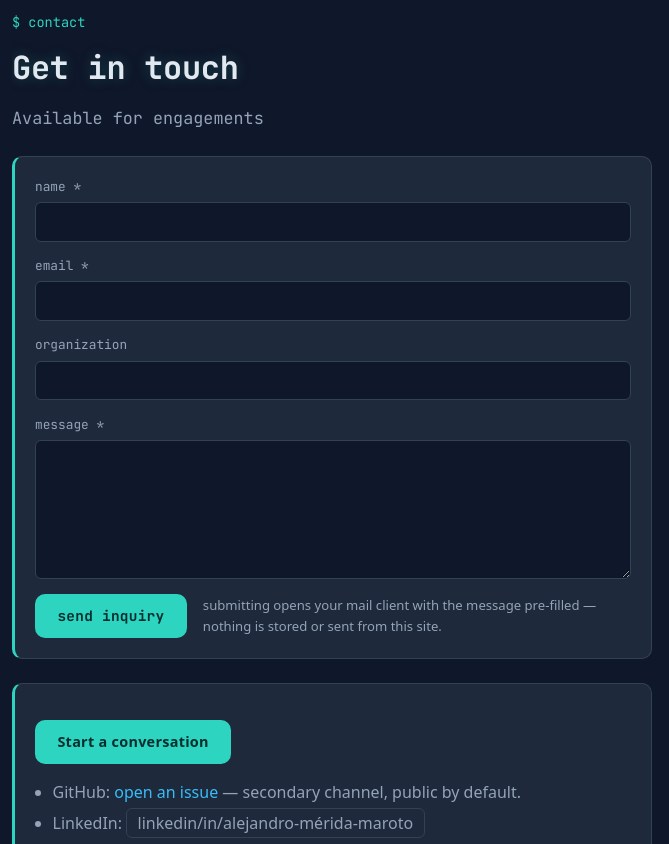
Scenario: Contact inquiry form › rejects an invalid email address and a too-short message
Type "not-an-email" into the field labelled "email *" at point(333, 301), box [35, 281, 631, 321]
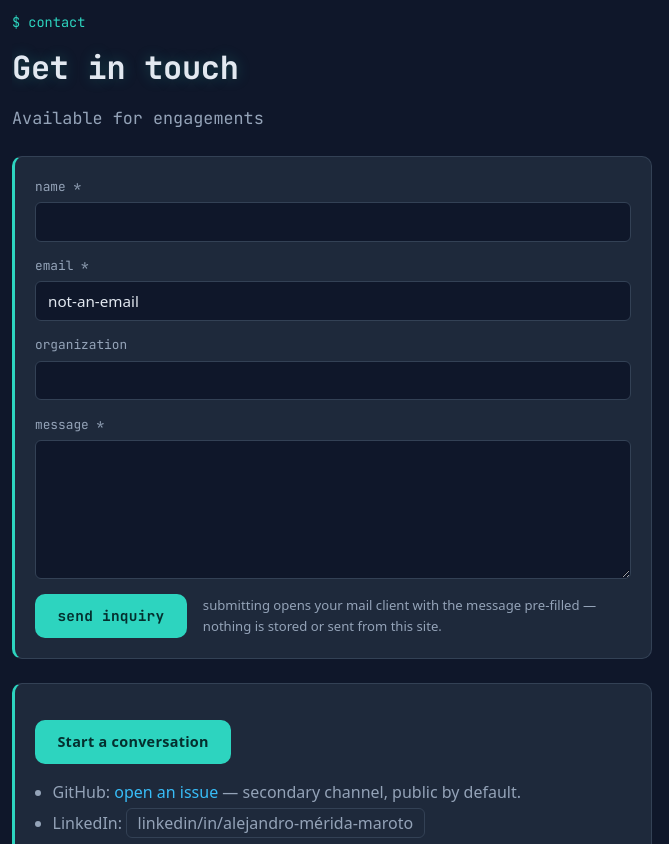
Type "too short" into the text box labelled "message *" at point(333, 510), box [35, 440, 631, 579]
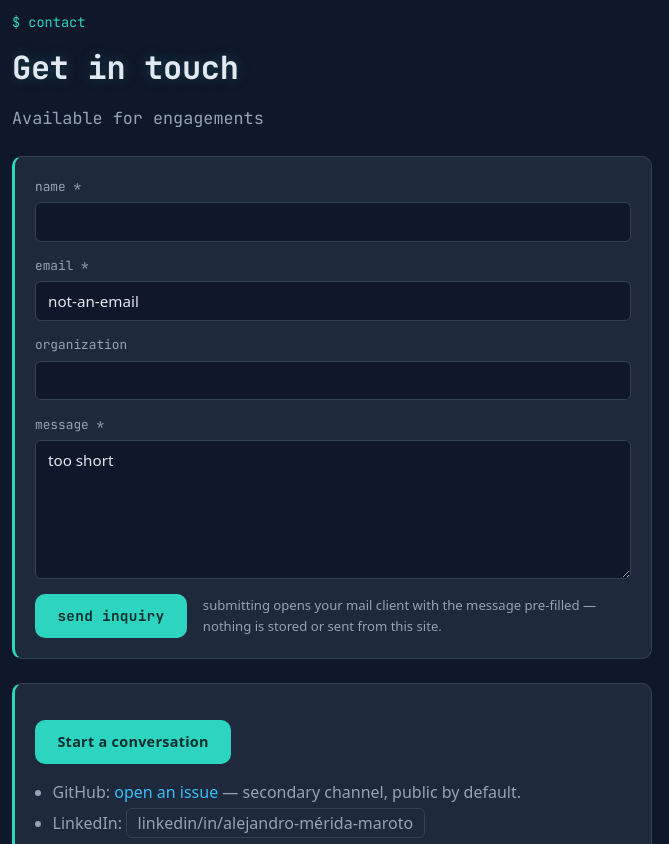
Click the button "send inquiry" at point(111, 616), box [35, 594, 187, 638]
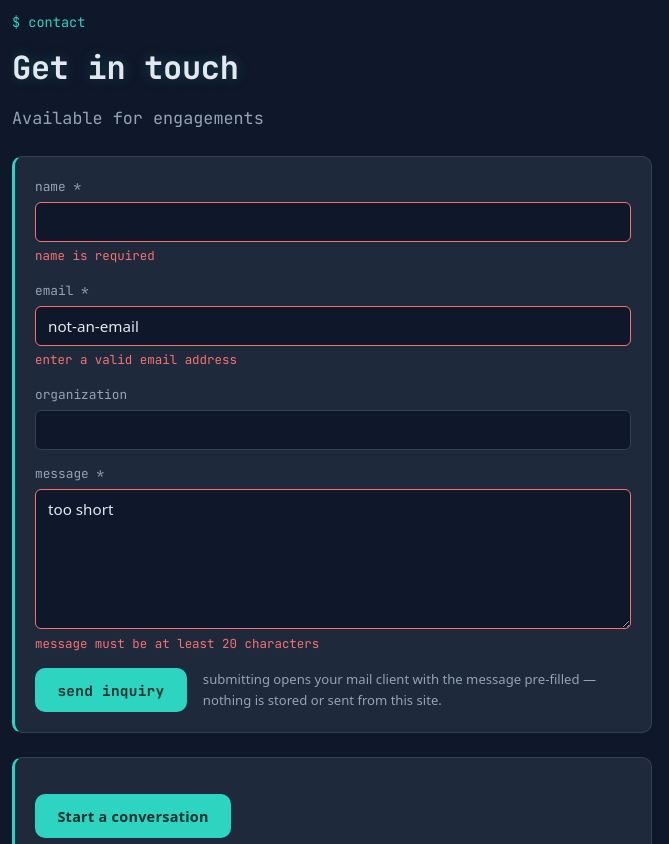
expect the text "enter a valid email address" is shown: met, box [35, 352, 237, 368]
expect the text "message must be at least 20 characters" is shown: met, box [35, 635, 319, 652]
